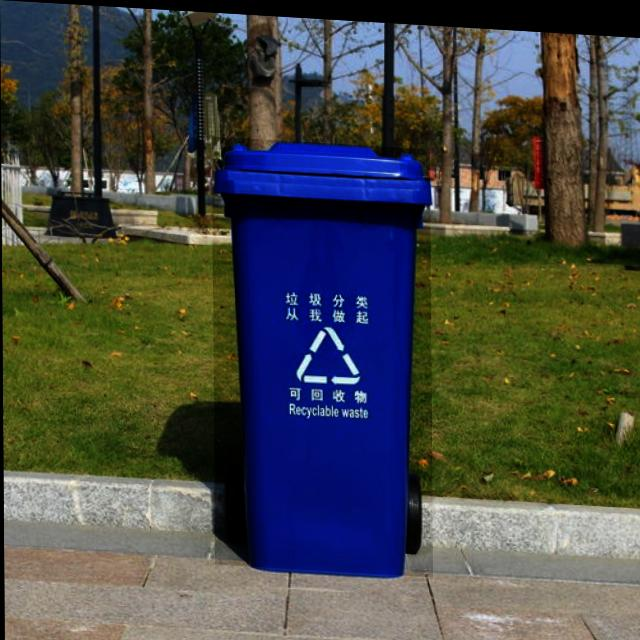garbage_bin: (212, 134, 432, 572)
